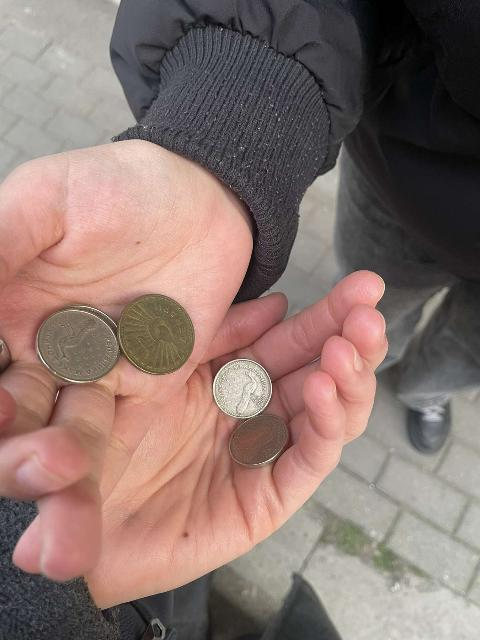10_coin: (37, 308, 119, 382), (213, 359, 271, 418), (230, 415, 288, 467), (65, 305, 117, 334)
5_coin: (118, 295, 194, 374)
